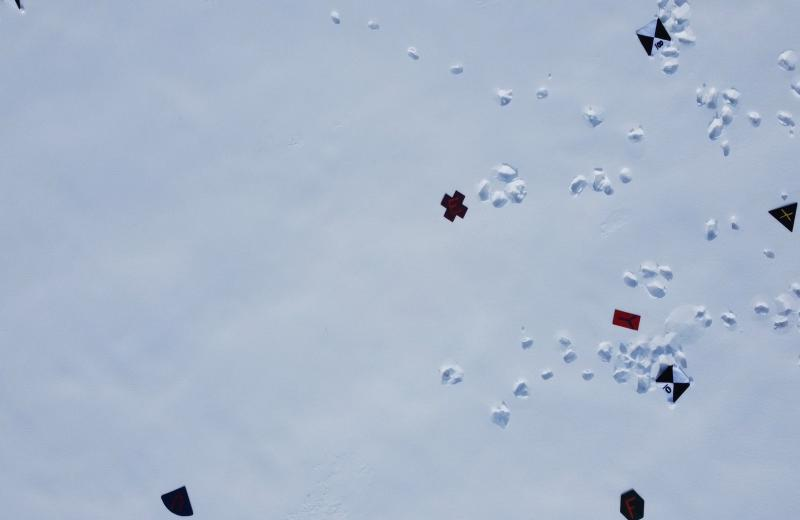Cross: (438, 186, 470, 225)
Hexagon: (616, 485, 647, 520)
Quarter Circle: (158, 481, 196, 519)
Rectangle: (609, 306, 642, 334)
Triangle: (766, 198, 800, 236)
